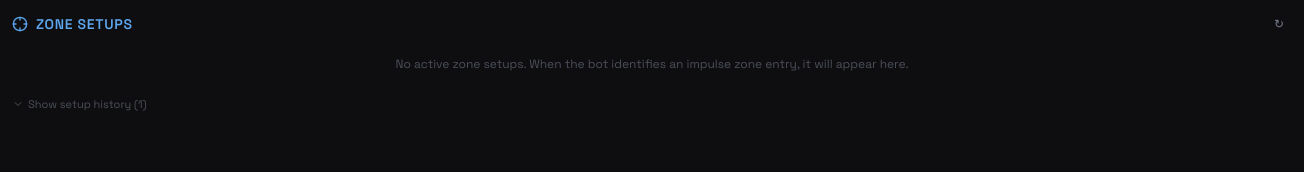
Scenario: unfilled orders say why › expired order shows the TTL it actually had
Click the button "Show setup history (1)" at point(79, 104), box [12, 96, 147, 112]
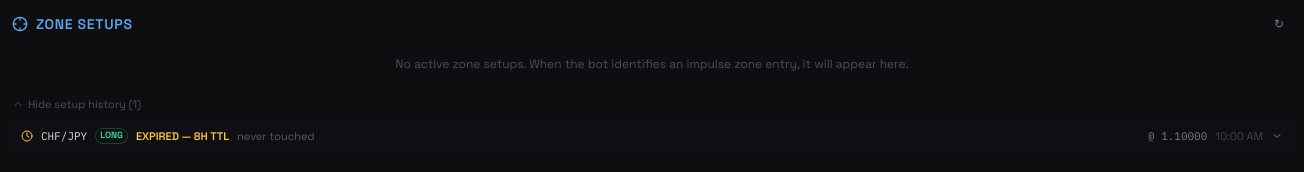
Expected: the text "EXPIRED — 8H TTL" is shown, [136, 128, 229, 144]
Expected: the text "never touched" is shown, [237, 128, 315, 144]
